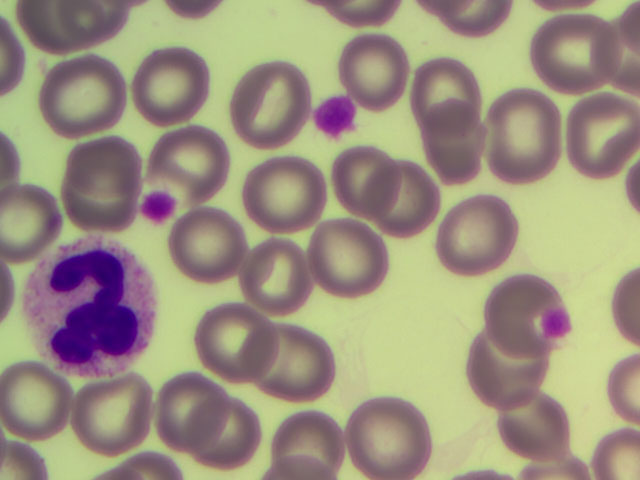Platelets: (314, 97, 352, 132), (147, 191, 176, 221), (546, 309, 570, 334)
RBC: (535, 12, 620, 99), (488, 94, 563, 183), (244, 325, 341, 392), (350, 401, 432, 480), (367, 159, 444, 241), (43, 62, 125, 137), (438, 198, 517, 274), (232, 64, 306, 144), (476, 334, 545, 416), (200, 310, 276, 380), (574, 96, 639, 177), (133, 52, 207, 123), (267, 412, 342, 480), (157, 130, 232, 197), (313, 224, 381, 297), (497, 389, 565, 462), (245, 163, 327, 223), (334, 147, 402, 218), (419, 60, 486, 129), (74, 384, 145, 449), (428, 100, 484, 180), (171, 216, 243, 278), (3, 369, 65, 440), (189, 399, 254, 466), (249, 242, 311, 311), (22, 1, 113, 48), (159, 381, 222, 446), (345, 40, 405, 105), (494, 280, 538, 364), (1, 191, 55, 259), (597, 429, 640, 480), (529, 445, 588, 480), (613, 272, 640, 347), (608, 361, 640, 423), (1, 440, 49, 480), (430, 1, 503, 27), (316, 1, 394, 23), (1, 18, 23, 89)
WBC: (24, 251, 153, 375)
